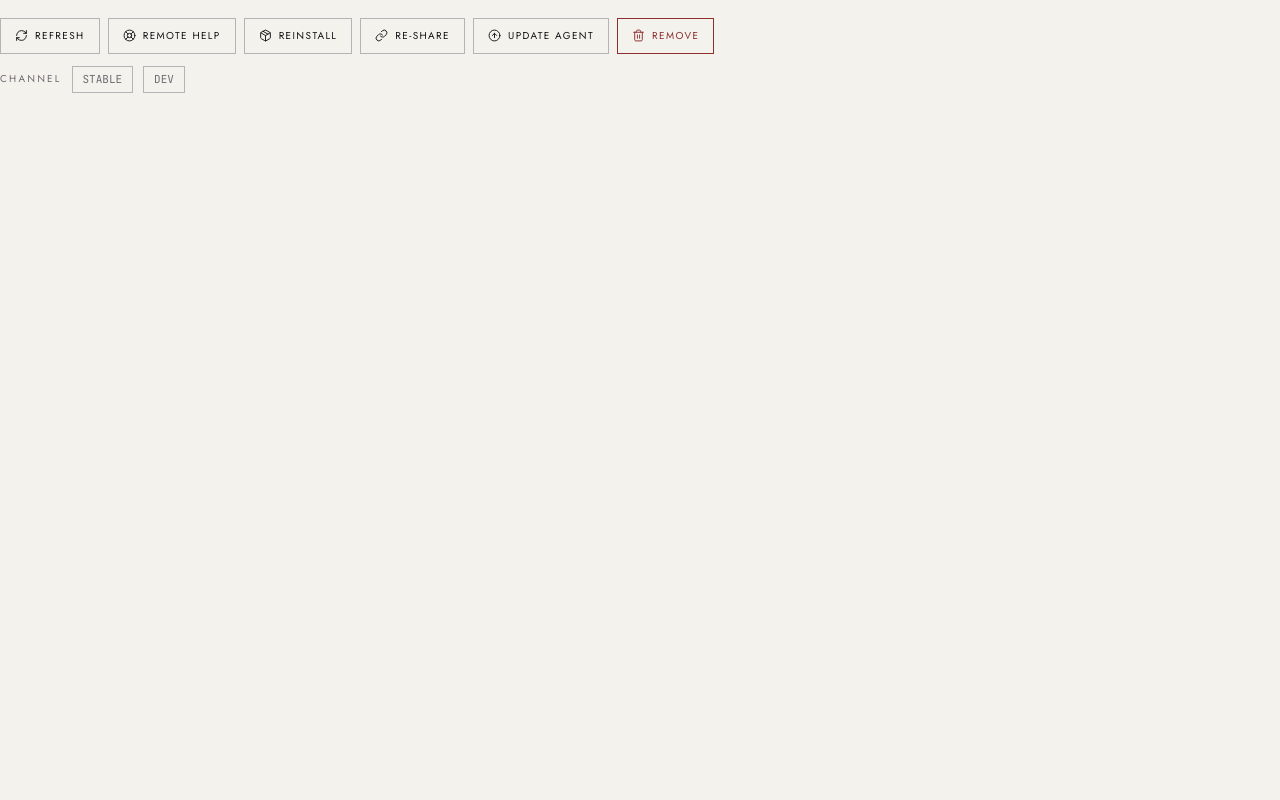
ActionRow — RE-SHARE › posts {name, os} to /api/agents/share-link and shows the returned single-use URL and expiry
Click the button "RE-SHARE": [413, 36] box top-left (360, 18), bottom-right (465, 54)
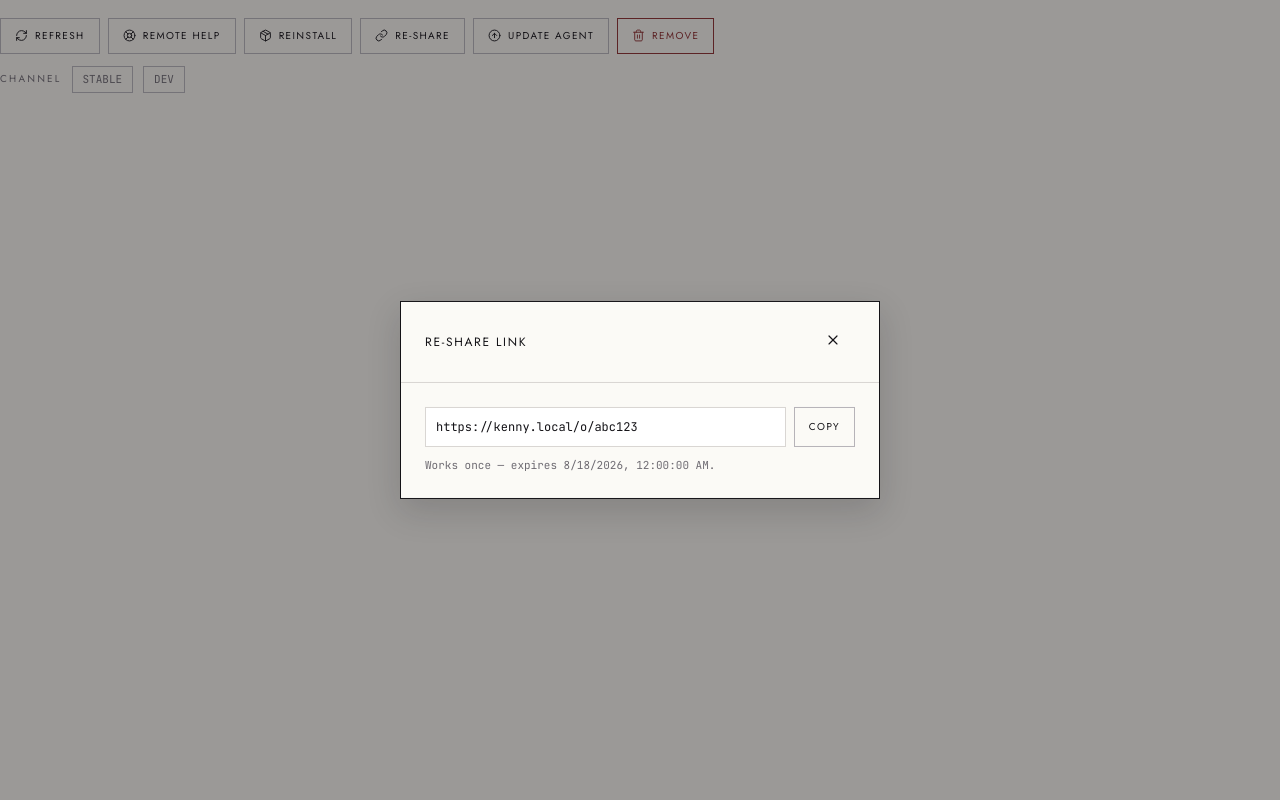
Check: the field showing "https://kenny.local/o/abc123" is shown, box top-left (425, 407), bottom-right (786, 447)
Check: the text "Works once — expires 8/18/2026, 12:00:00 AM." is shown, box top-left (425, 458), bottom-right (715, 472)
